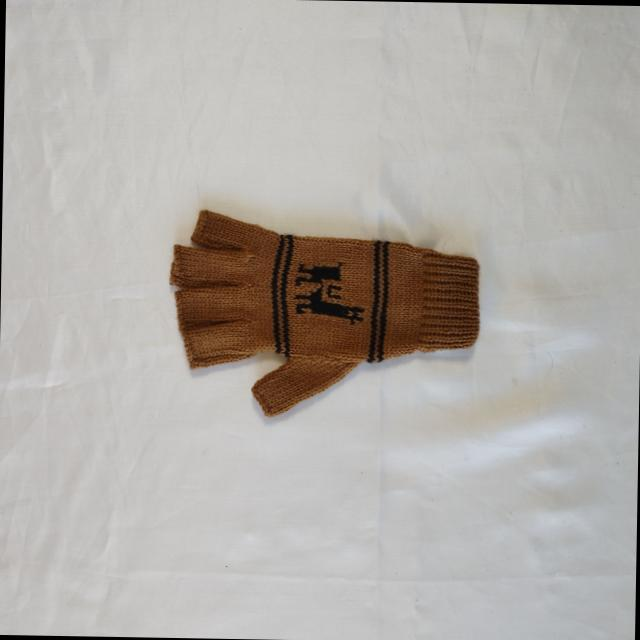Guante: (166, 208, 482, 422)
